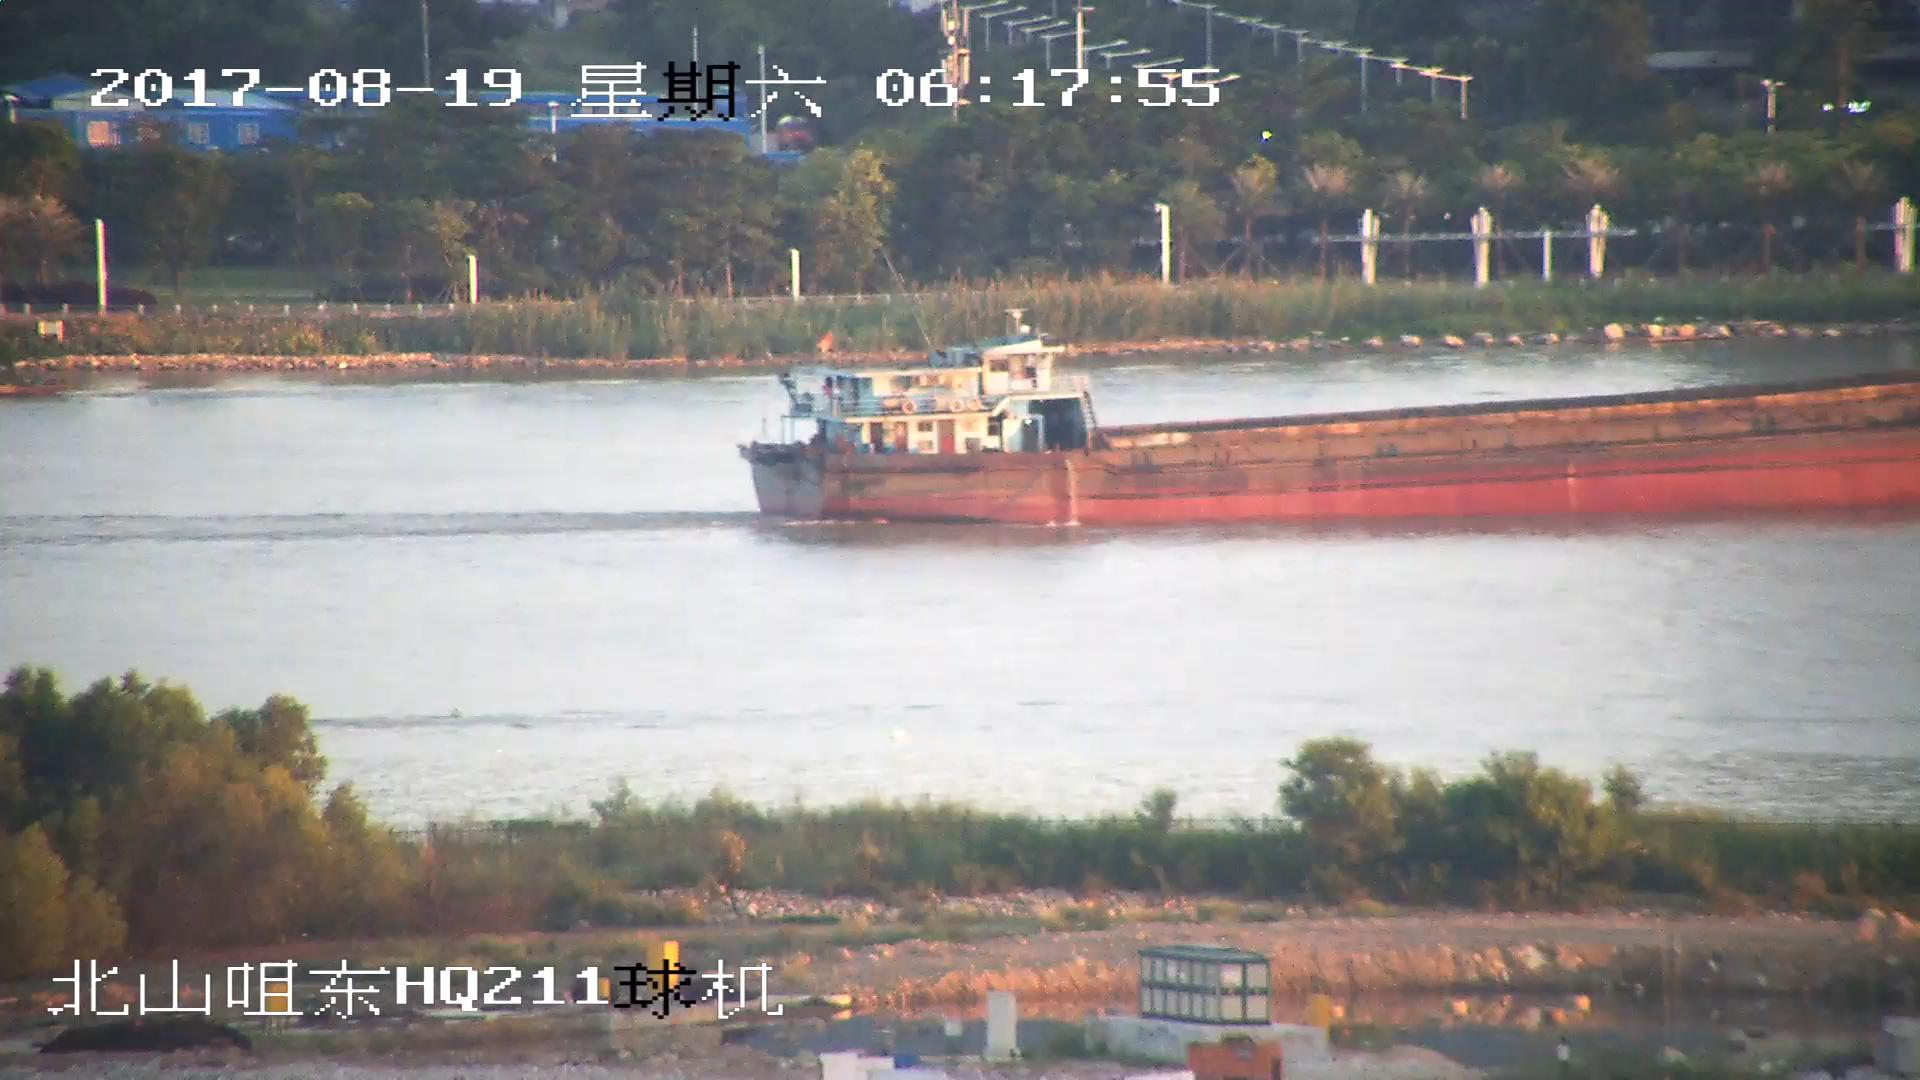Ship: (728, 306, 1920, 526)
